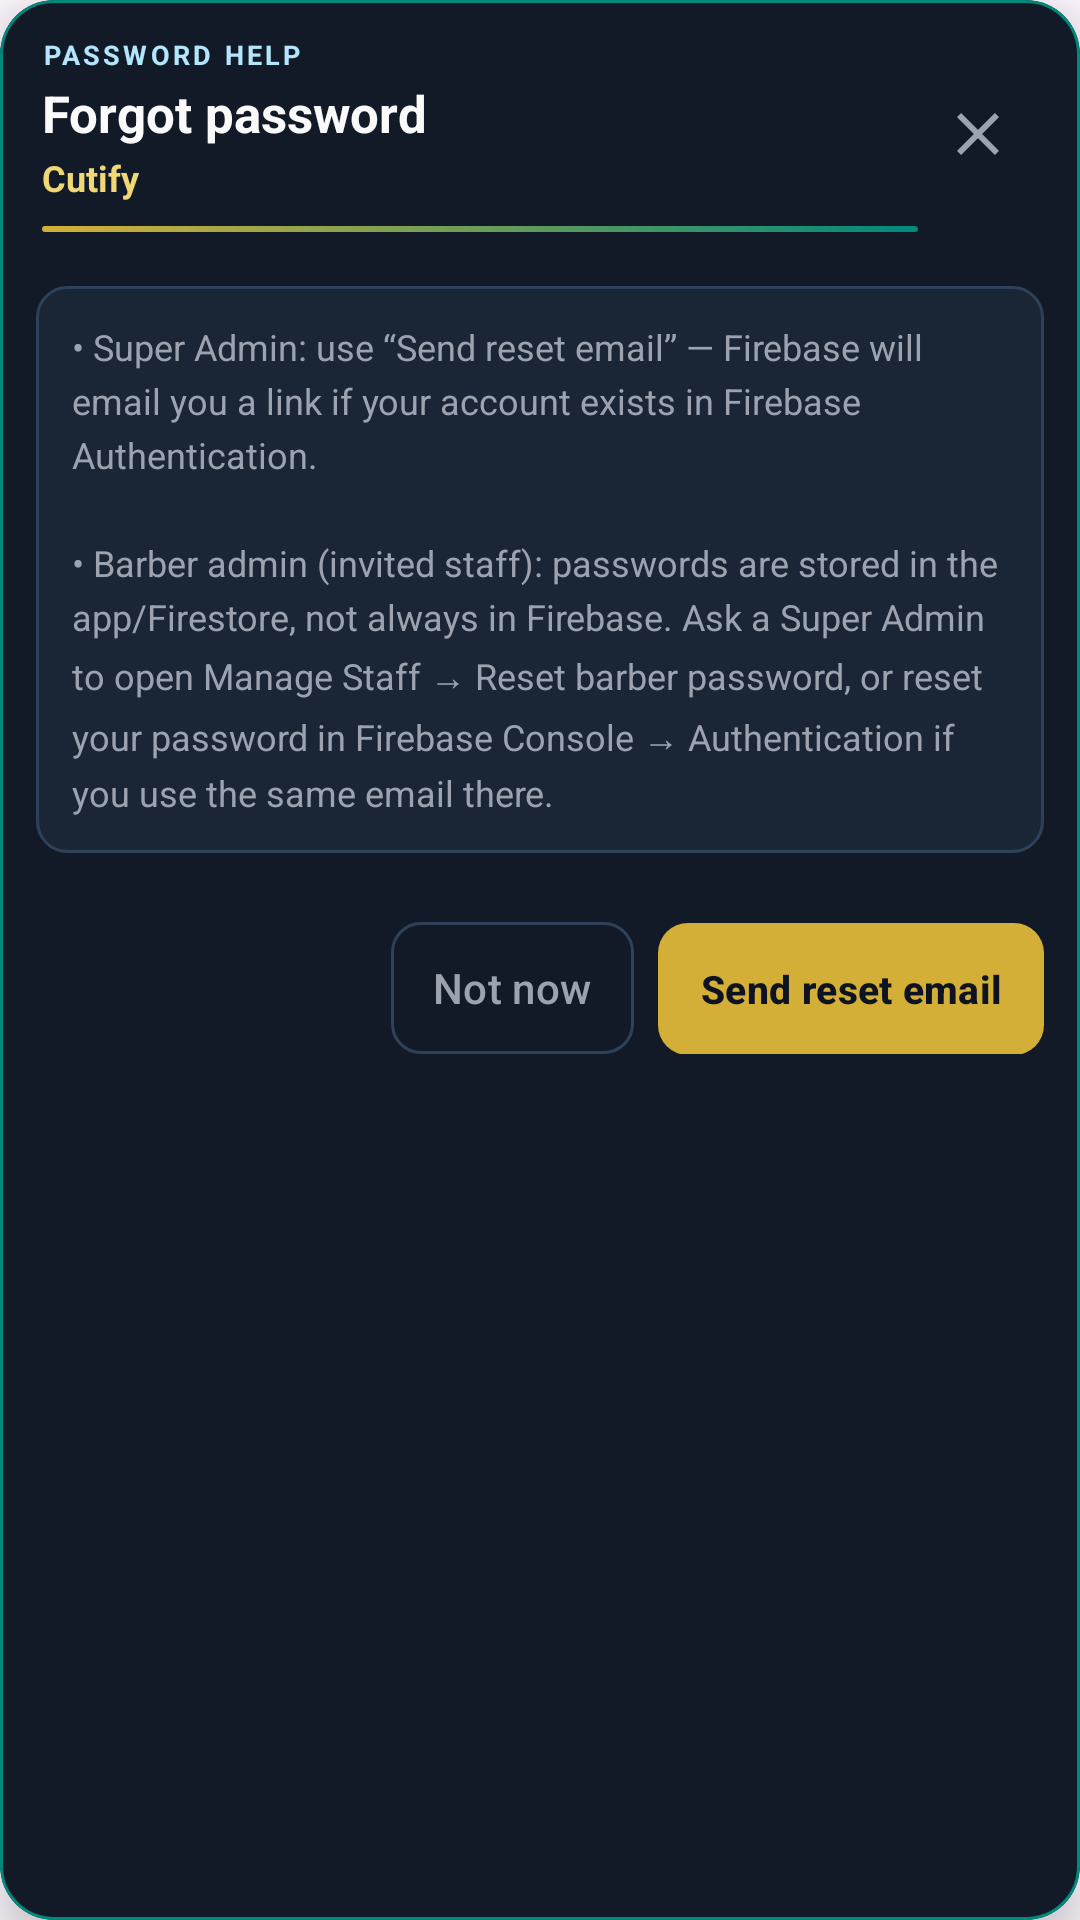

Icon bounding boxes for this 1080 x 1920 phone screenshot, format (x1, y1, x2, y2):
Close: (957, 113, 999, 155)
